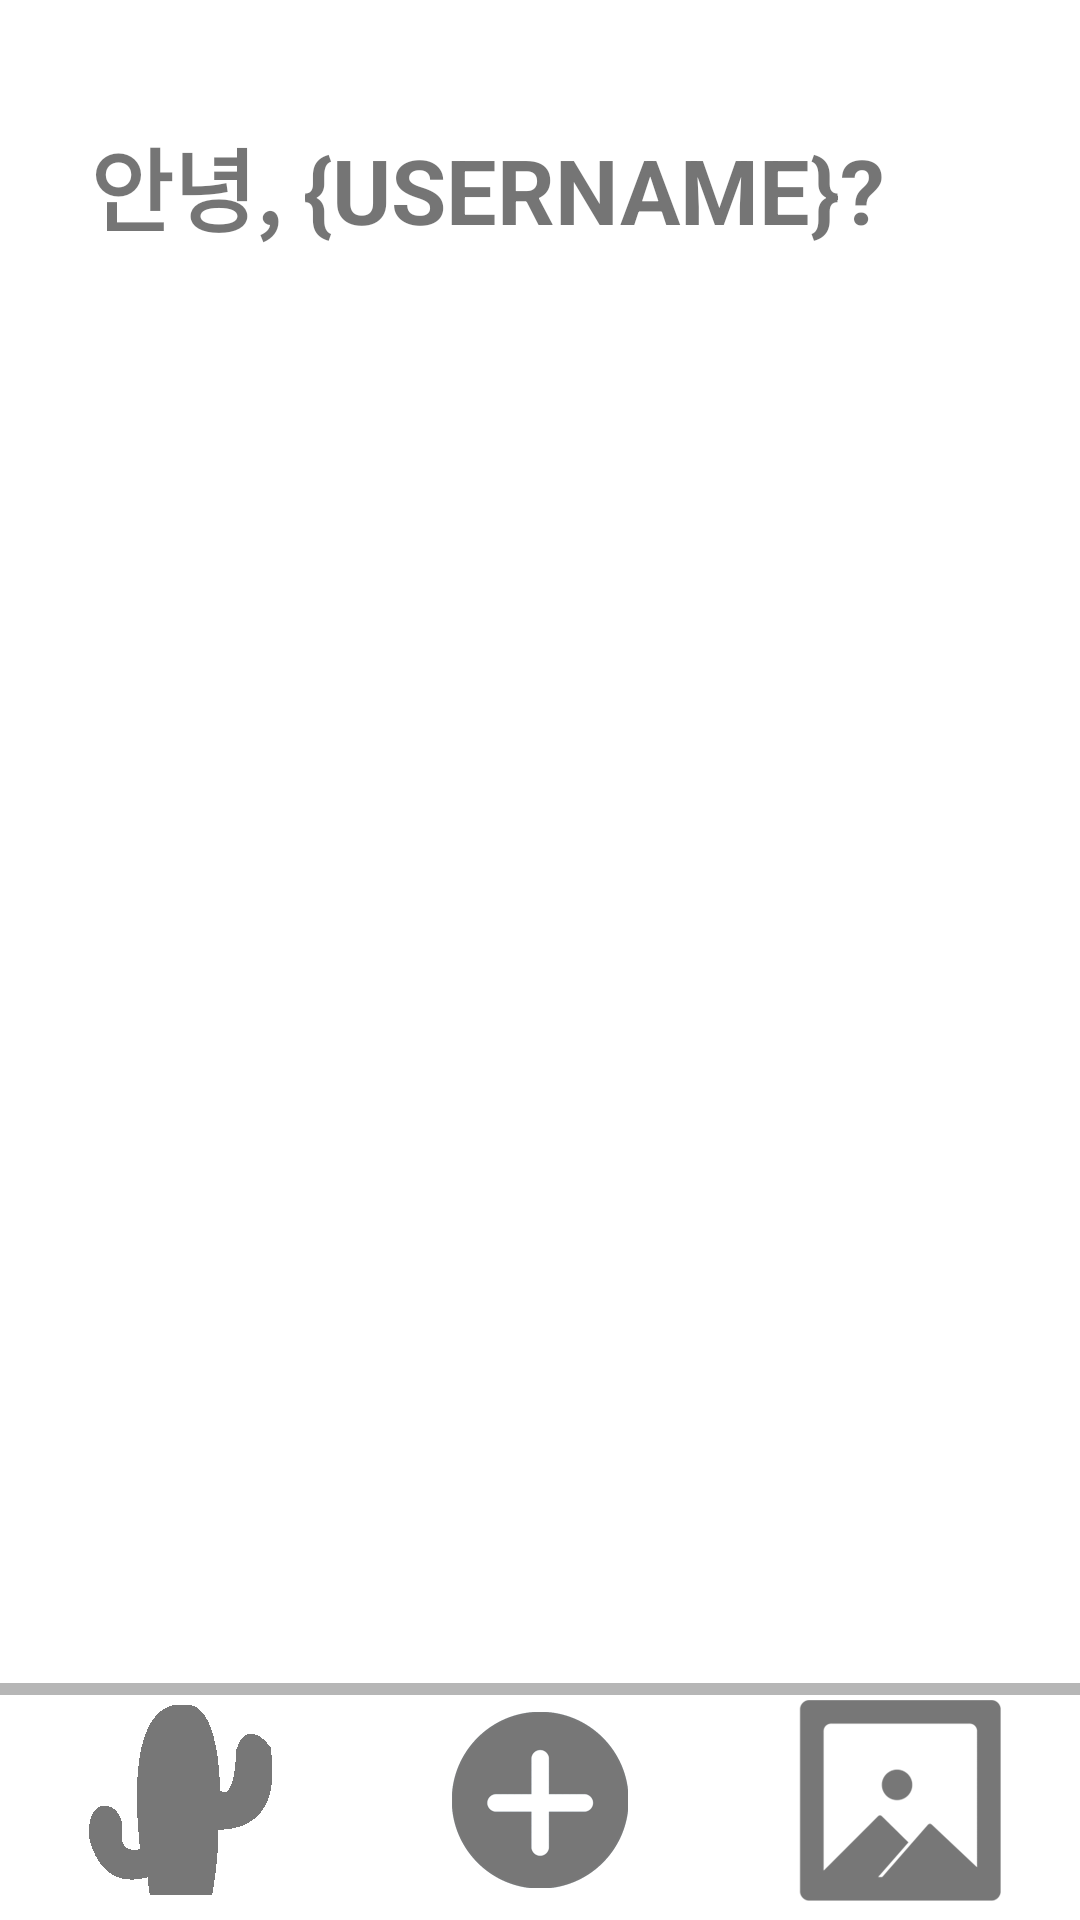

Screen size 1080*1920. Icon name, then its center in pixels as [x,y]:
album: [900,1800]
plus: [540,1800]
